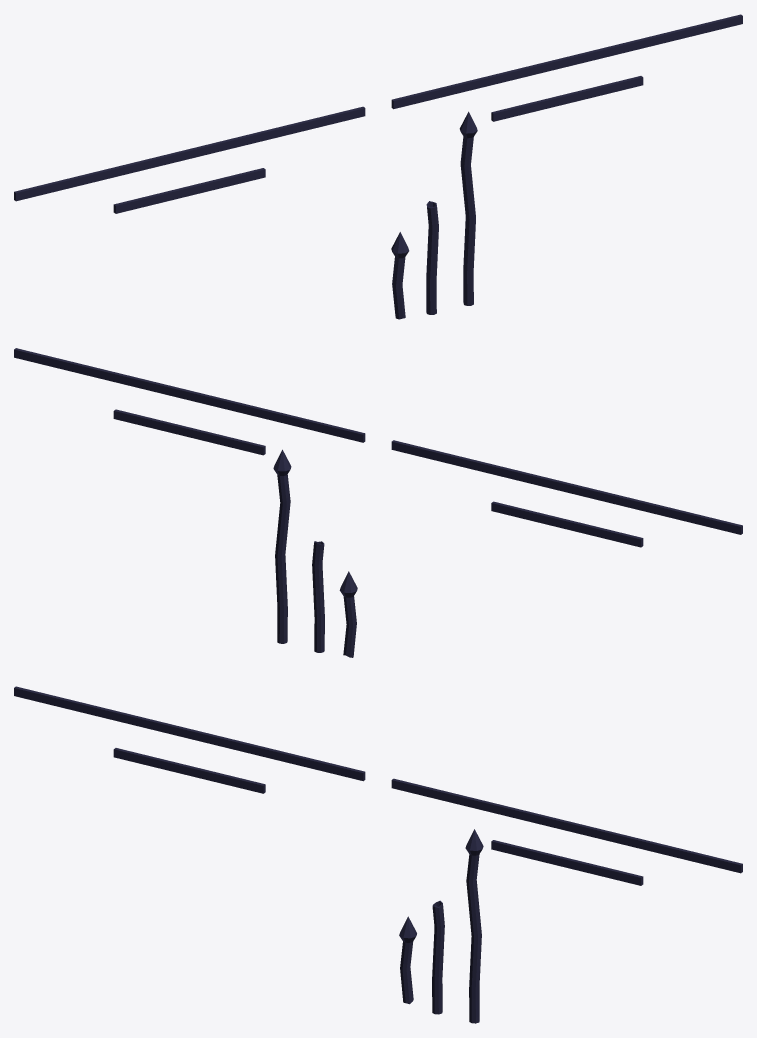
The model's file is barreaux_kit_mauve.fbx.
3 views of the same model, one above another, from view 1: azimuth 30°, elevation 25°; view 2: azimuth 150°, elevation 25°; view 3: azimuth 330°, elevation 25° (orthographic).
Visible parts, largest first — view 1: barriere_grande, barriere_grande1, barreaux_entier, barriere_petite, barriere_petite1, barreaux_casse_bas, barreaux_casse_haut; view 2: barriere_grande1, barriere_grande, barreaux_entier, barriere_petite1, barriere_petite, barreaux_casse_bas, barreaux_casse_haut; view 3: barriere_grande1, barriere_grande, barreaux_entier, barriere_petite, barriere_petite1, barreaux_casse_bas, barreaux_casse_haut.
Part boxes in pixels (x1=…): barriere_grande: x1=391, y1=14, x2=742, y2=109; barriere_grande1: x1=14, y1=106, x2=365, y2=201; barreaux_entier: x1=459, y1=111, x2=477, y2=305; barriere_petite: x1=491, y1=76, x2=643, y2=121; barriere_petite1: x1=113, y1=168, x2=265, y2=213; barreaux_casse_bas: x1=426, y1=201, x2=438, y2=314; barreaux_casse_haut: x1=391, y1=232, x2=409, y2=319; barriere_grande1: x1=391, y1=440, x2=742, y2=534; barriere_grande: x1=14, y1=348, x2=365, y2=442; barreaux_entier: x1=273, y1=449, x2=291, y2=643; barriere_petite1: x1=491, y1=501, x2=643, y2=547; barriere_petite: x1=113, y1=409, x2=265, y2=455; barreaux_casse_bas: x1=312, y1=541, x2=324, y2=652; barreaux_casse_haut: x1=339, y1=571, x2=357, y2=657; barriere_grande1: x1=14, y1=686, x2=365, y2=781; barriere_grande: x1=391, y1=778, x2=742, y2=873; barreaux_entier: x1=465, y1=829, x2=483, y2=1023; barriere_petite: x1=491, y1=840, x2=643, y2=885; barriere_petite1: x1=113, y1=748, x2=265, y2=793; barreaux_casse_bas: x1=432, y1=900, x2=444, y2=1014; barreaux_casse_haut: x1=399, y1=916, x2=416, y2=1004.
Bounding box in the file's own units: 17.26 × 5.1 × 0.429.
1 material, 1 textured.
